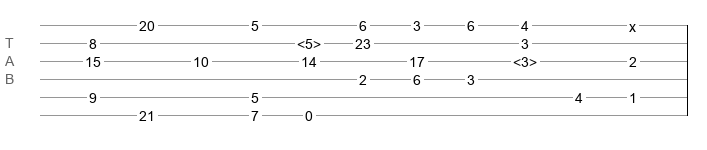0: (305, 108, 313, 118)
1: (629, 90, 637, 100)
10: (193, 54, 209, 64)
14: (301, 54, 317, 64)
15: (85, 54, 101, 64)
17: (409, 54, 425, 64)
2: (359, 72, 367, 82), (629, 54, 637, 64)
20: (139, 18, 155, 28)
21: (139, 108, 155, 118)
23: (355, 36, 371, 46)
3: (413, 18, 421, 28), (467, 72, 475, 82), (521, 36, 529, 46)
4: (521, 18, 529, 28), (575, 90, 583, 100)
5: (251, 18, 259, 28), (251, 90, 259, 100)
6: (359, 18, 367, 28), (413, 72, 421, 82), (467, 18, 475, 28)
7: (251, 108, 259, 118)
8: (89, 36, 97, 46)
9: (89, 90, 97, 100)
harmonic: (297, 36, 321, 46), (513, 54, 537, 64)
x: (629, 19, 636, 27)
